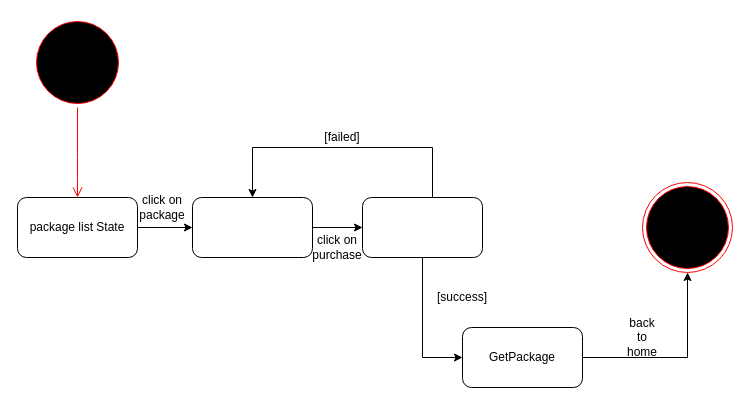
Some shapes in this 750 by 405 pixel diagram are drawn without their labels. The shapes that lost their labels are listed below. From the top down, each one's centre as x and y in pixels, then its label:
At (x=252, y=227): "Selection".
At (x=422, y=227): "purchase State(Bank)".
